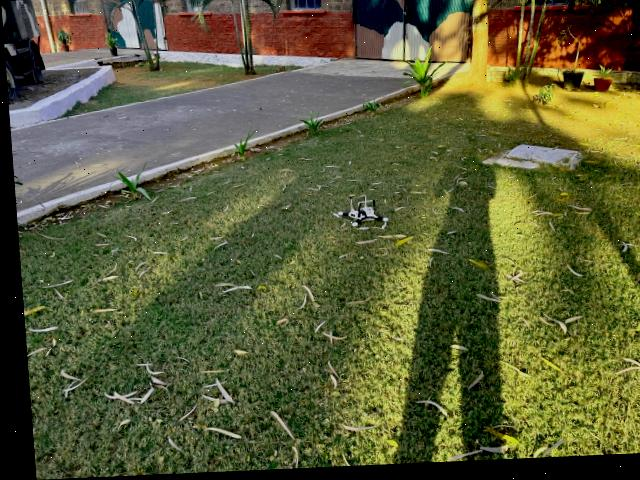drone: (321, 186, 392, 242)
